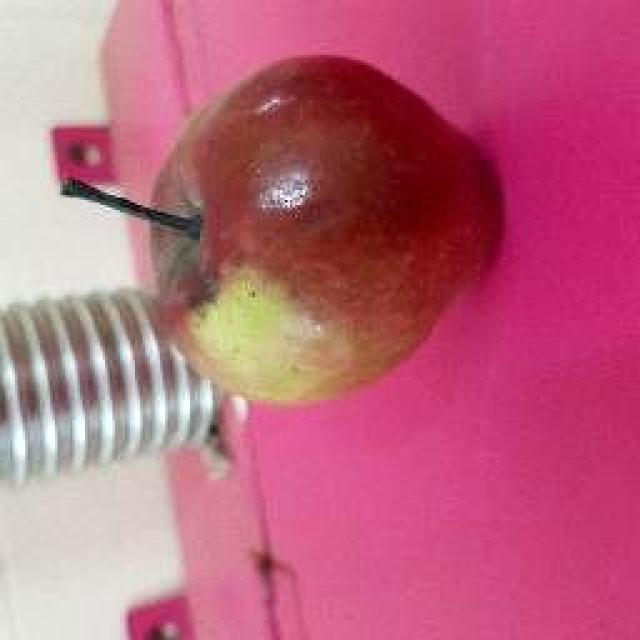Good_Apple: (110, 52, 505, 408)
